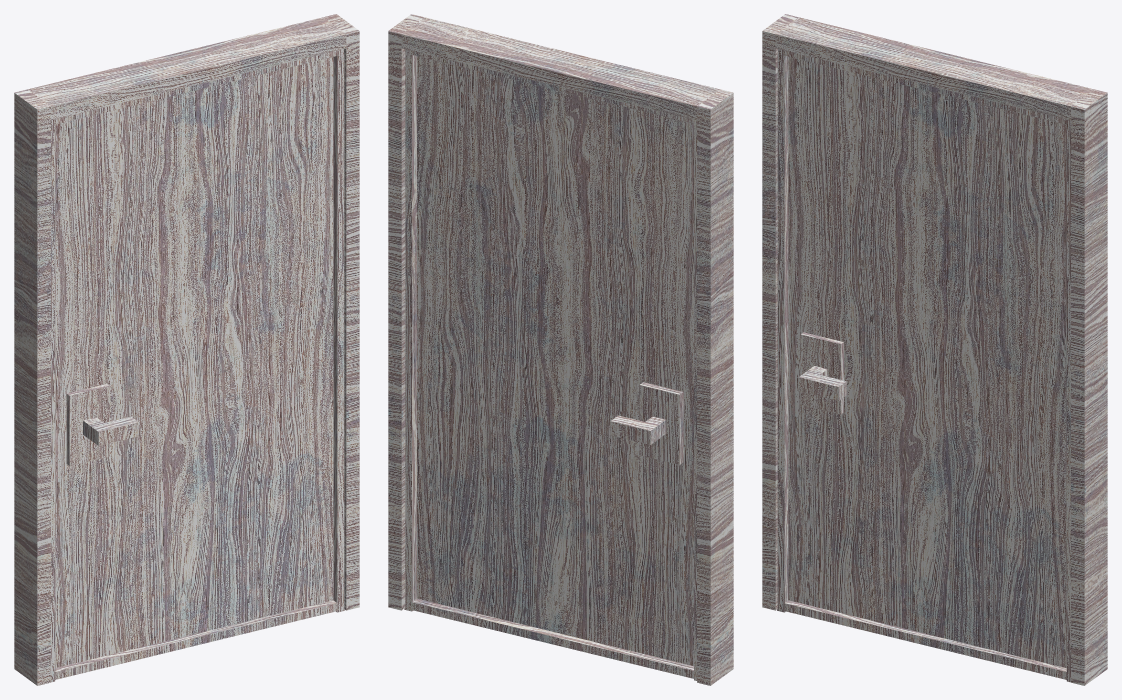
The model's file is NeNoor.obj.
3 views of the same model, side by side, from view 1: azimuth 30°, elevation 25°; view 2: azimuth 150°, elevation 25°; view 3: azimuth 330°, elevation 25° (orthographic).
Parts seen in each view (by area): view 1: Union1, Part3, Part2, Part1; view 2: Union1, Part3, Part2, Part1; view 3: Union1, Part1, Part2, Part3.
Boxes of the visible parts, x1,y1,x2,y2 form: Union1: (51,49,344,682); Part3: (14,89,50,685); Part2: (28,17,346,120); Part1: (323,14,359,610); Union1: (404,49,696,680); Part3: (697,89,733,685); Part2: (401,17,719,120); Part1: (388,14,424,610); Union1: (777,49,1070,682); Part1: (1071,89,1107,685); Part2: (775,17,1093,120); Part3: (762,14,798,610).
Bounding box in the file's own units: 4.8 × 8.23 × 1.2.
2 materials, 2 textured.
